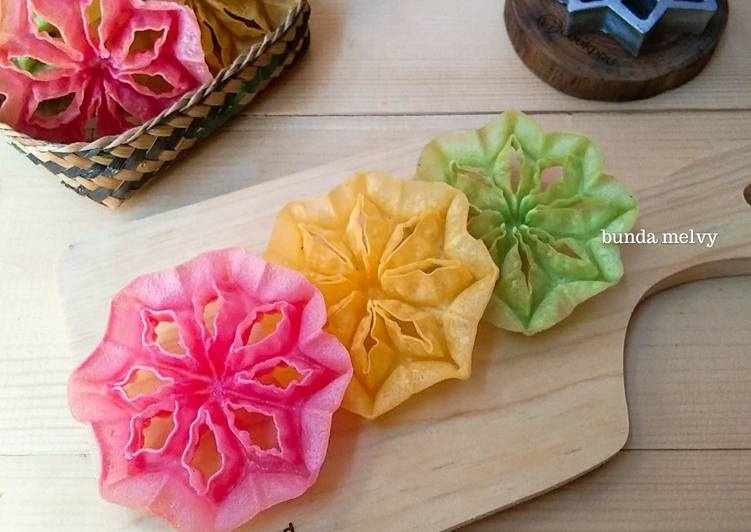kembang_goyang: (52, 246, 343, 509)
